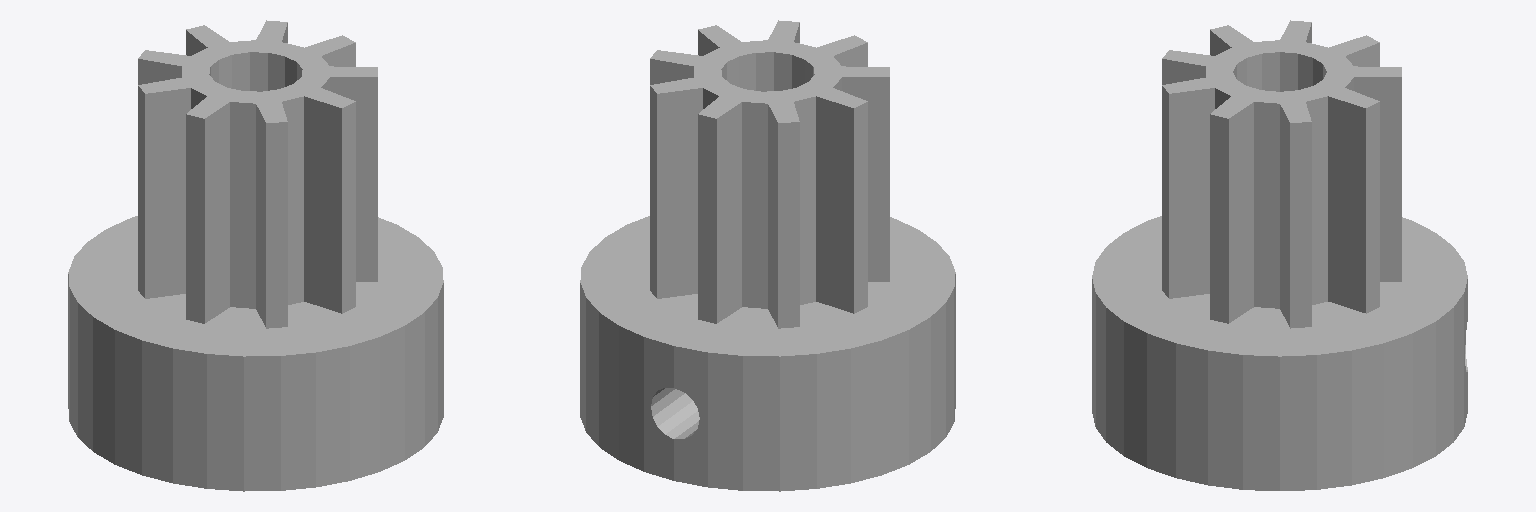
URDF robot description (root):
<?xml version='1.0' encoding='utf-8'?>
<robot name="root">
  <link name="link_001">
    <visual>
      <origin xyz="0 0 0" rpy="0 0 0" />
      <geometry>
        <mesh filename="c004a9e6d772c6cdf027826e95b0d9bbc6875ab868d68e31993e051aef27b33a_scale_000.stl" scale="1.0000E+00 1.0000E+00 1.0000E+00" />
      </geometry>
      <material name="">
        <color rgba="7.50E-01 7.50E-01 7.50E-01 1" />
      </material>
    </visual>
    <collision>
      <origin xyz="0 0 0" rpy="0 0 0" />
      <geometry>
        <mesh filename="c004a9e6d772c6cdf027826e95b0d9bbc6875ab868d68e31993e051aef27b33a_scale_000.stl" scale="1.0000E+00 1.0000E+00 1.0000E+00" />
      </geometry>
    </collision>
  </link>
</robot>

--- Render facts (derived) ---
The picture shows the robot from 3 angles, left to right: view 1: azimuth 30°, elevation 25°; view 2: azimuth 150°, elevation 25°; view 3: azimuth 270°, elevation 25°; orthographic projection.
Robot: root — 1 links, 0 joints (none); root link link_001; default pose: every joint at zero.
Links seen in each view (by area): view 1: link_001; view 2: link_001; view 3: link_001.
Link boxes in pixels (box(x1,y1,x2,y2)): link_001: box(68, 20, 443, 491); link_001: box(580, 20, 955, 491); link_001: box(1092, 20, 1467, 490).
Bounding box of the posed robot: 0.0902 × 0.0902 × 0.09 m (x, y, z).
Meshes: 1 distinct files referenced, 1 mesh visuals loaded (1 binary STL).
